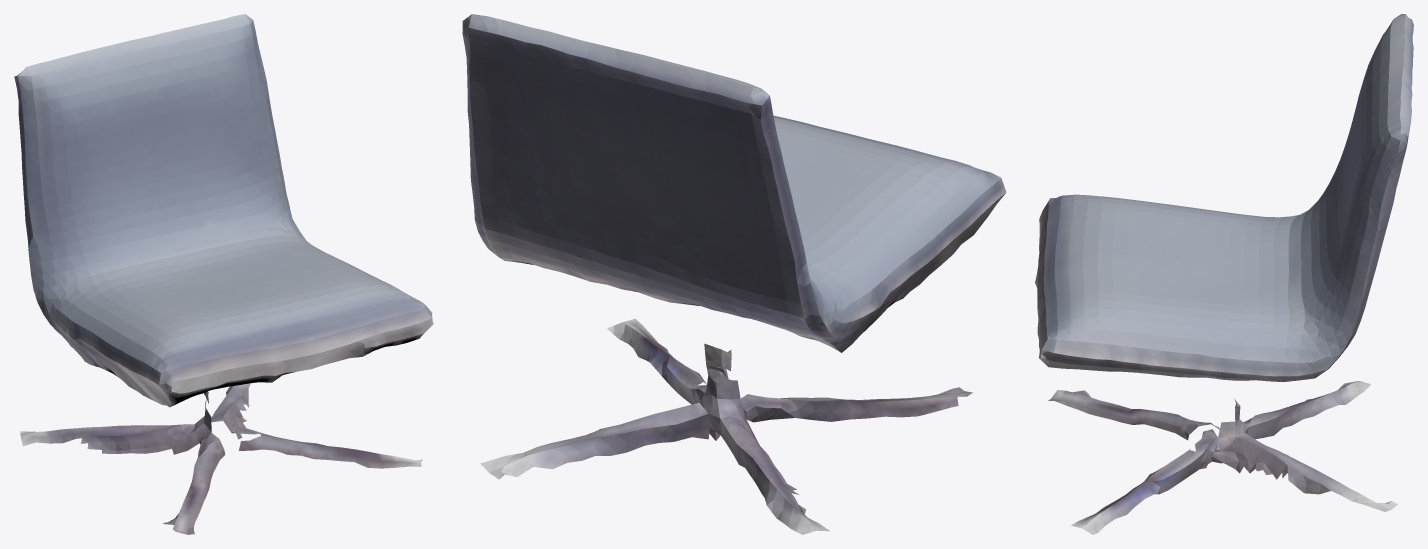
The picture shows the model from 3 angles, left to right: view 1: azimuth 30°, elevation 25°; view 2: azimuth 150°, elevation 25°; view 3: azimuth 270°, elevation 25°; orthographic projection. The views are drawn at different scales.
Visible parts, largest first — view 1: world; view 2: world; view 3: world.
Boxes of the visible parts, x1,y1,x2,y2 form: world: [14, 14, 433, 534]; world: [462, 14, 1006, 534]; world: [1035, 14, 1413, 534].
Bounding box in the file's own units: 0.8361 × 1 × 0.8747.
